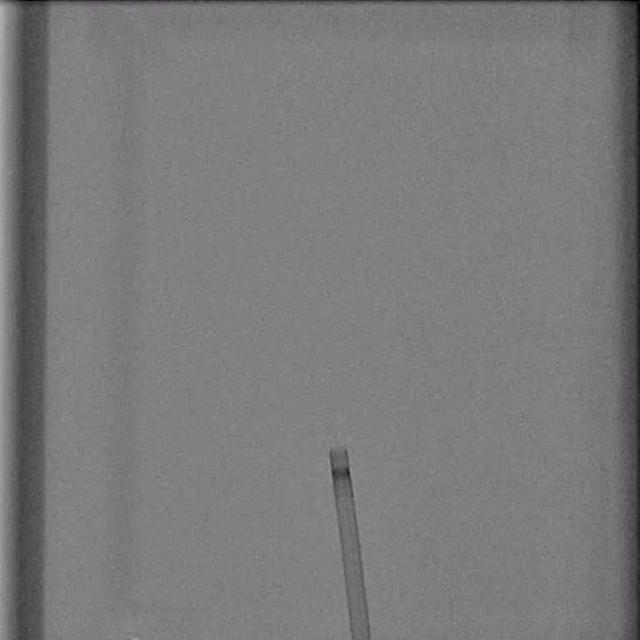entry: (350, 634, 371, 640)
marker: (332, 464, 352, 480)
tip: (329, 448, 348, 455)
